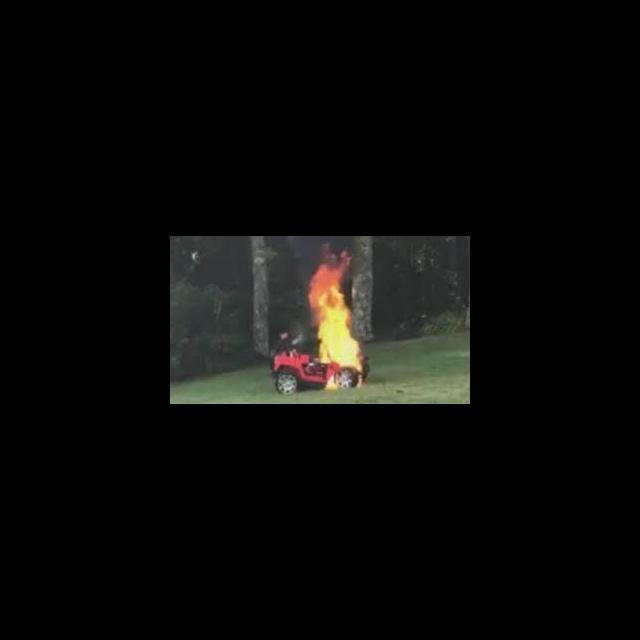Fire: (308, 250, 364, 364), (324, 374, 343, 390)
